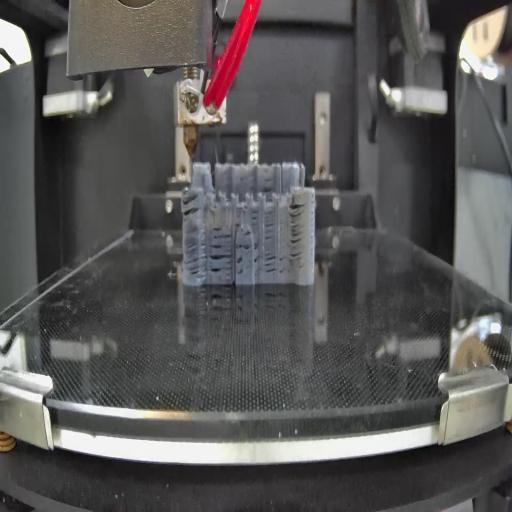cracks: (183, 227, 208, 275), (288, 200, 306, 261), (210, 242, 232, 275), (263, 209, 275, 241), (182, 196, 201, 216), (264, 249, 276, 278), (212, 227, 231, 240), (254, 241, 260, 271), (250, 206, 260, 224), (236, 254, 244, 276), (279, 252, 286, 274), (261, 185, 275, 193), (237, 244, 252, 251), (244, 231, 251, 236), (236, 220, 240, 228)
